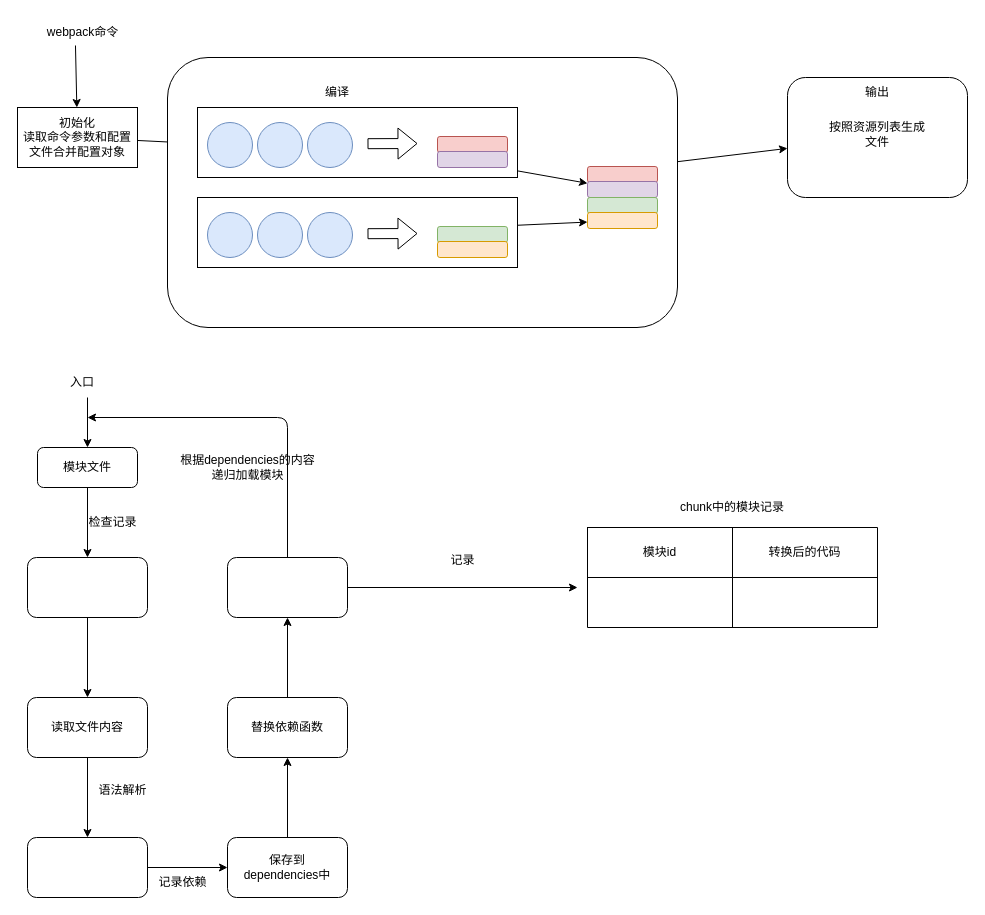
Image size: 985x915. Some labels were removed from this diagram. The shapes that lost their labels are listed below. From the top down, each one's centre as x and y in pixels, then its label:
(x=87, y=587): 已记录则结束 未记录则继续
(x=287, y=587): 保存转换后的 模块代码
(x=87, y=867): AST 抽象语法树
